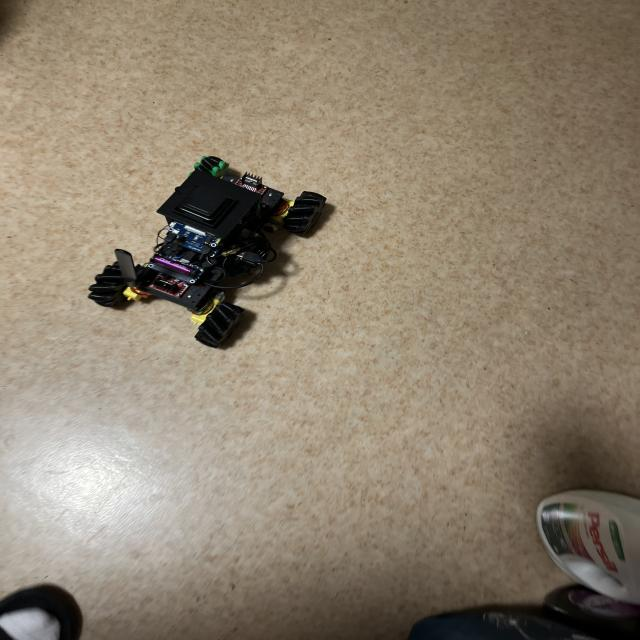robot: (88, 156, 326, 348)
